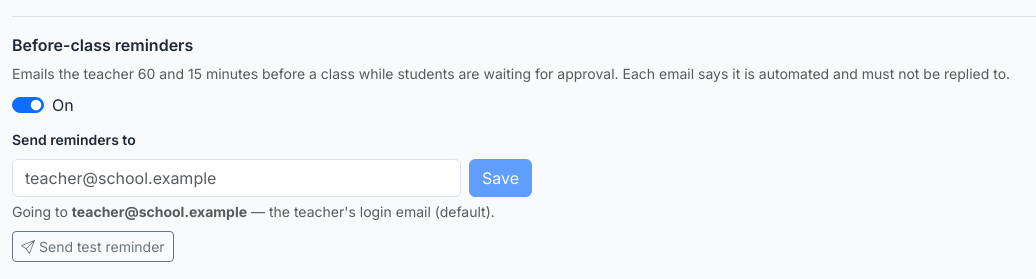
Test: before-class reminders card › change the address
The image size is (1036, 279).
In the field labelled "Send reminders to": (236, 178) x1=12 y1=159 x2=461 y2=197, type "alerts@school.example"
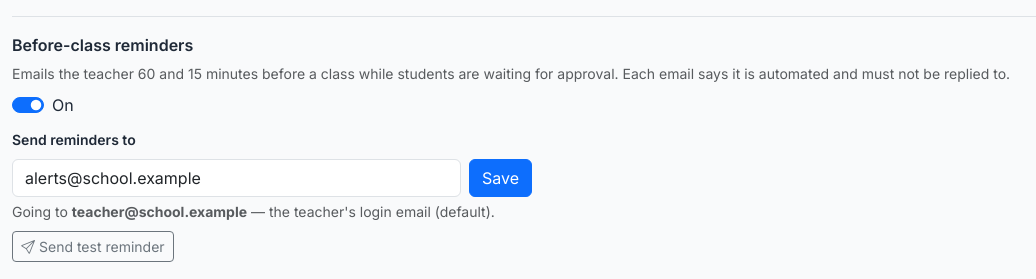
Click the button "Save": (500, 178) x1=469 y1=159 x2=532 y2=197
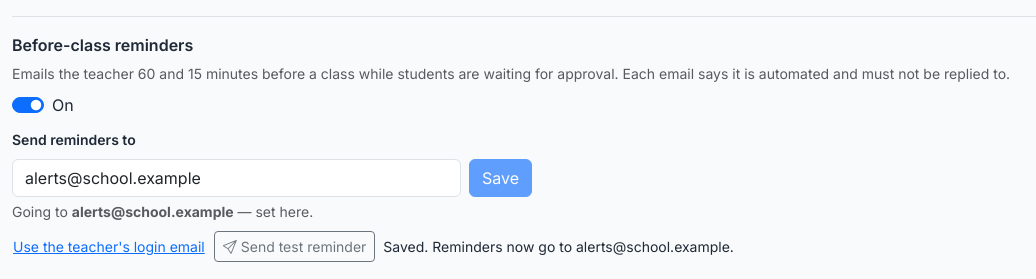
Expected: the element with test id "class-alert-destination" shows "Going to alerts@school.example — set here", x1=12 y1=203 x2=313 y2=220
Expected: the message shows "Reminders now go to alerts@school.example", x1=383 y1=238 x2=734 y2=255
